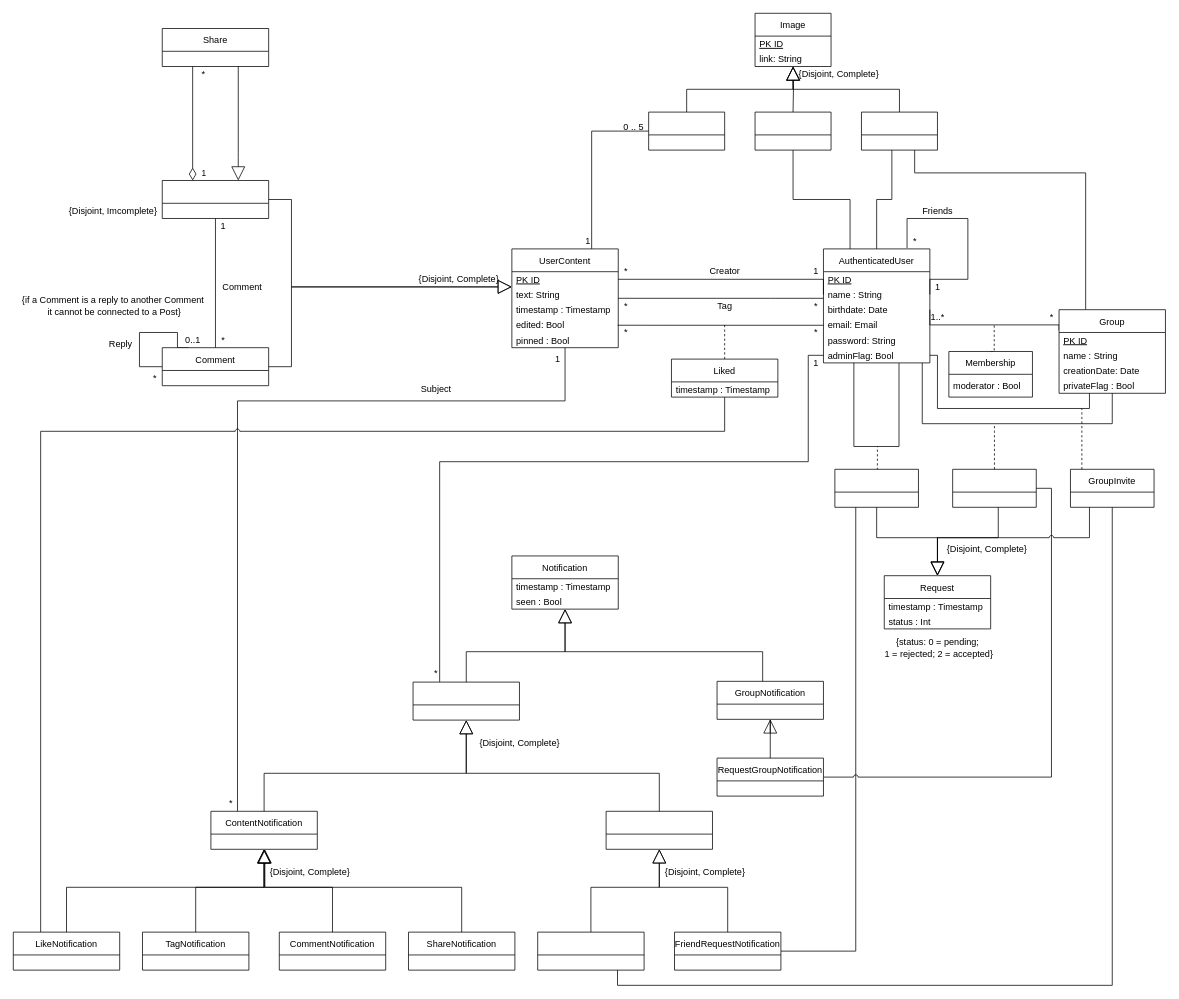
The diagram is 1179 pixels wide and 999 high, and some of its shapes have lost their labels. Each missing label, with the centre of its shape:
ContentPicture: pixel 686 130
CoverPicture: pixel 899 130
FriendRequest: pixel 876 488
GroupInviteNotification: pixel 590 950
GroupRequest: pixel 994 488
Post: pixel 215 199
ProfilePicture: pixel 792 130
RequestNotification: pixel 658 830
UserNotification: pixel 465 700
